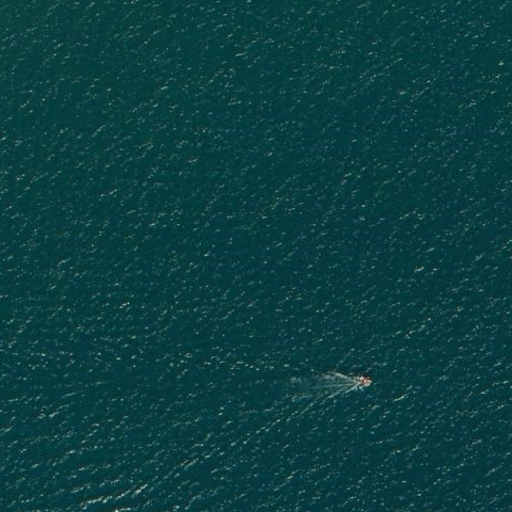ship: (352, 374, 373, 390)
